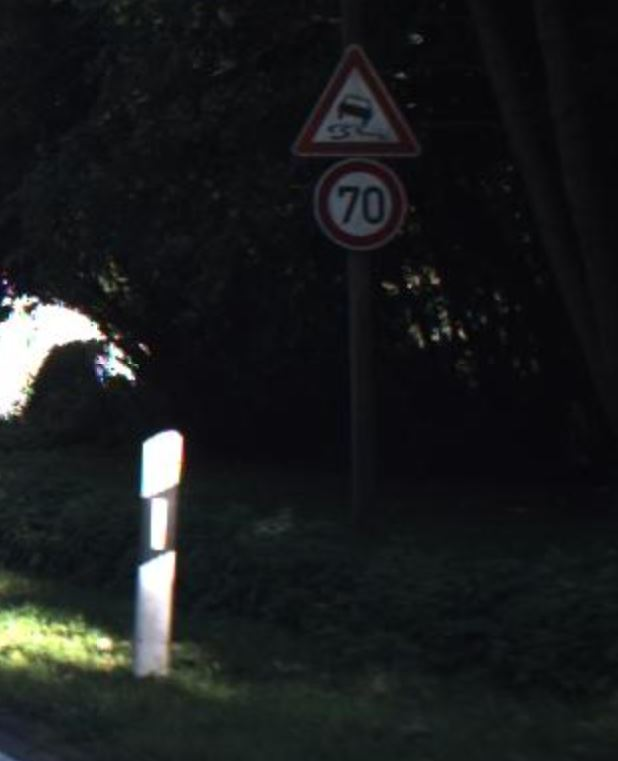70 Km Hiz Siniri: (314, 154, 407, 250)
